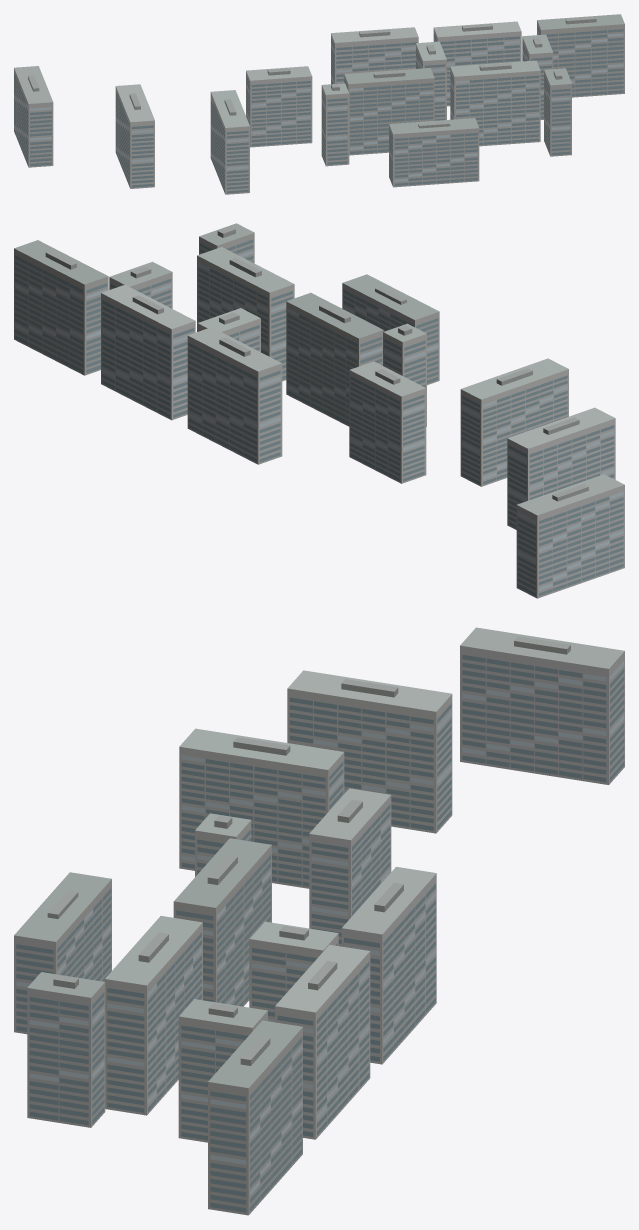
Rendered from apt-a11081302.glb.
3 views of the same model, one above another, from view 1: azimuth 30°, elevation 25°; view 2: azimuth 150°, elevation 25°; view 3: azimuth 270°, elevation 25° (orthographic). The views are drawn at different scales.
Visible parts, largest first — view 1: apt-a11081302; view 2: apt-a11081302; view 3: apt-a11081302.
Boxes of the visible parts, x1,y1,x2,y2 form: apt-a11081302: (14,14,624,194); apt-a11081302: (14,223,624,598); apt-a11081302: (14,627,624,1215).
Bounding box in the file's own units: 349 × 47 × 191.
